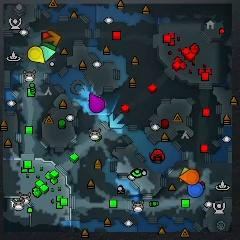p1: (187, 181, 203, 198)
p2: (39, 45, 55, 61)
p3: (89, 93, 105, 113)
p4: (28, 46, 45, 64)
p5: (180, 169, 200, 186)
x2: (180, 167, 191, 182)
x3: (109, 113, 125, 129)
x4: (44, 42, 57, 60)
x5: (43, 30, 62, 46)
